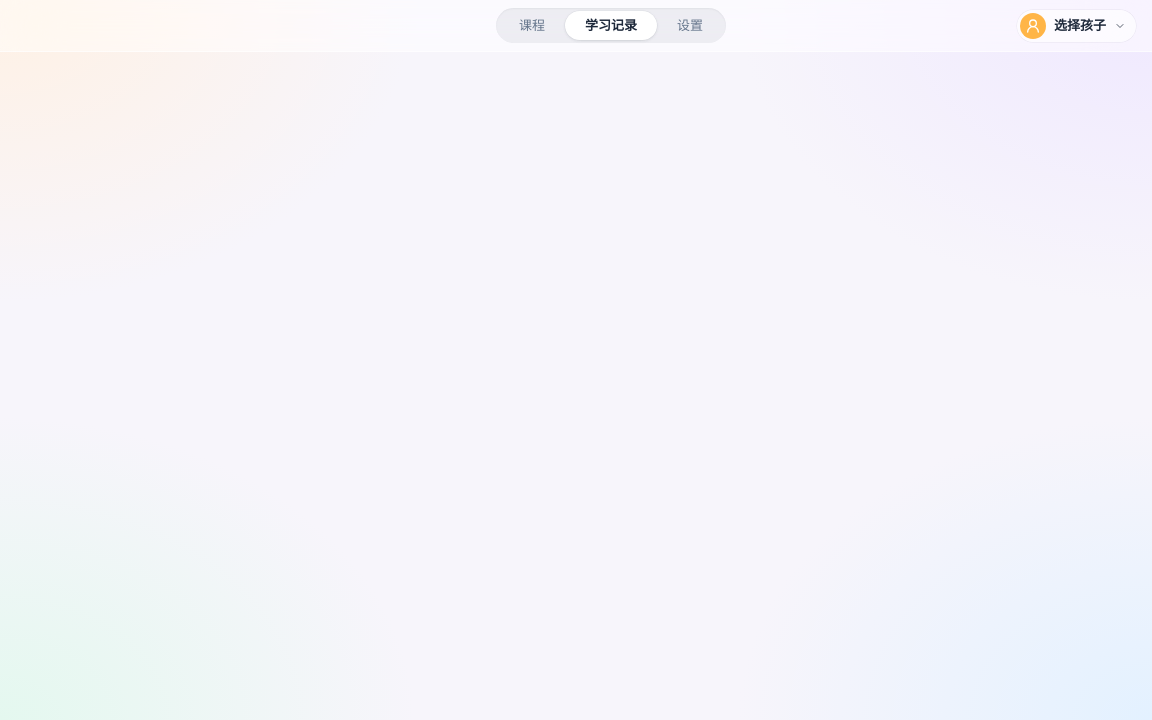
Test: shell › labels the active tab and supports keyboard learner switching and Escape
This screenshot has width=1152, height=720.
Press ArrowDown in the button with aria-label "切换孩子", box 1017,10 -> 1136,42
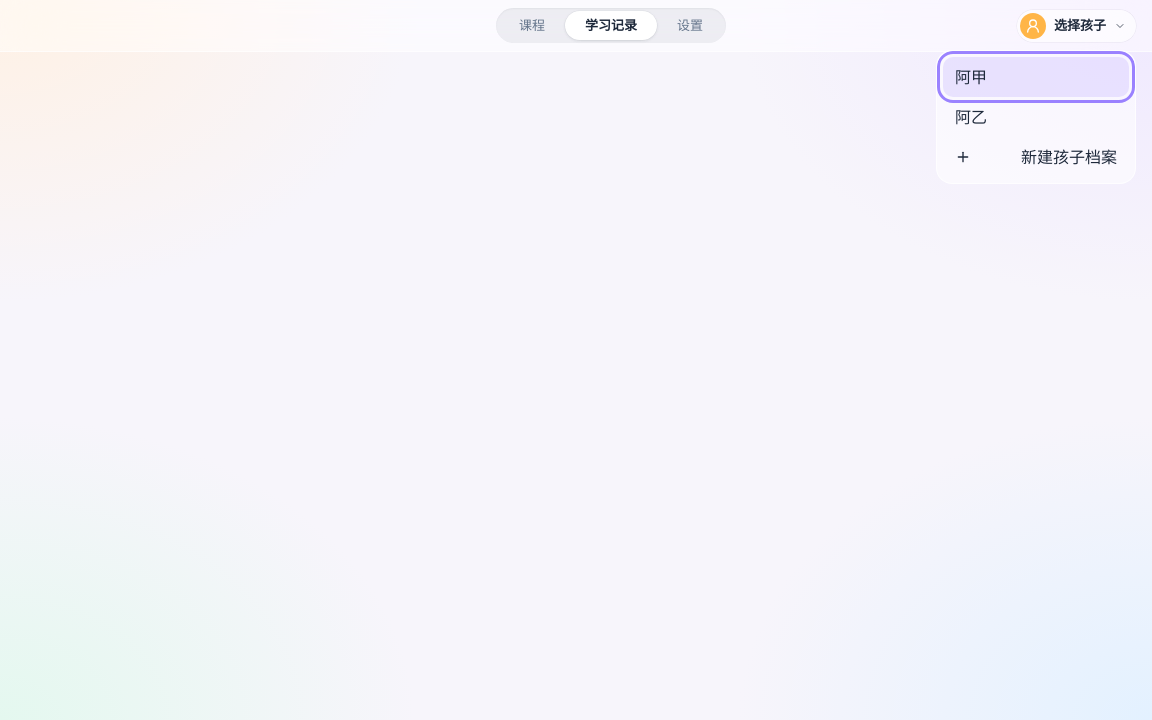
Press ArrowDown in the menu item "阿甲", box 943,56 -> 1129,96
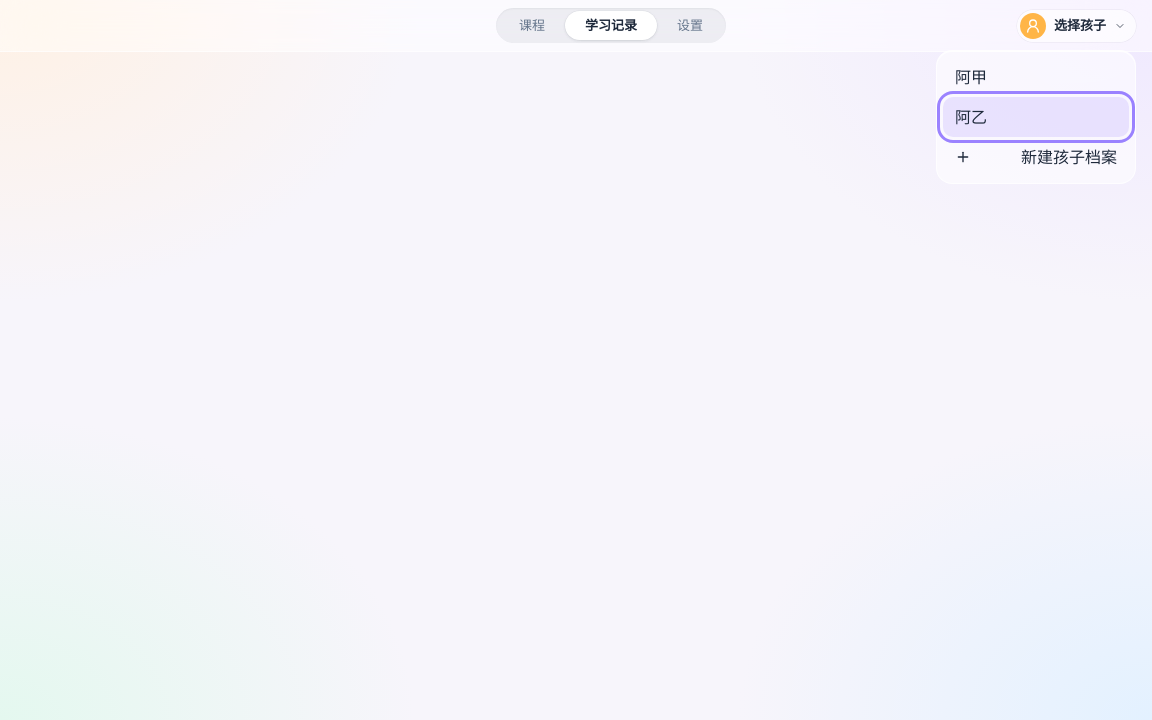
Click the menu item "阿乙" at [1036, 116], box 943,96 -> 1129,136
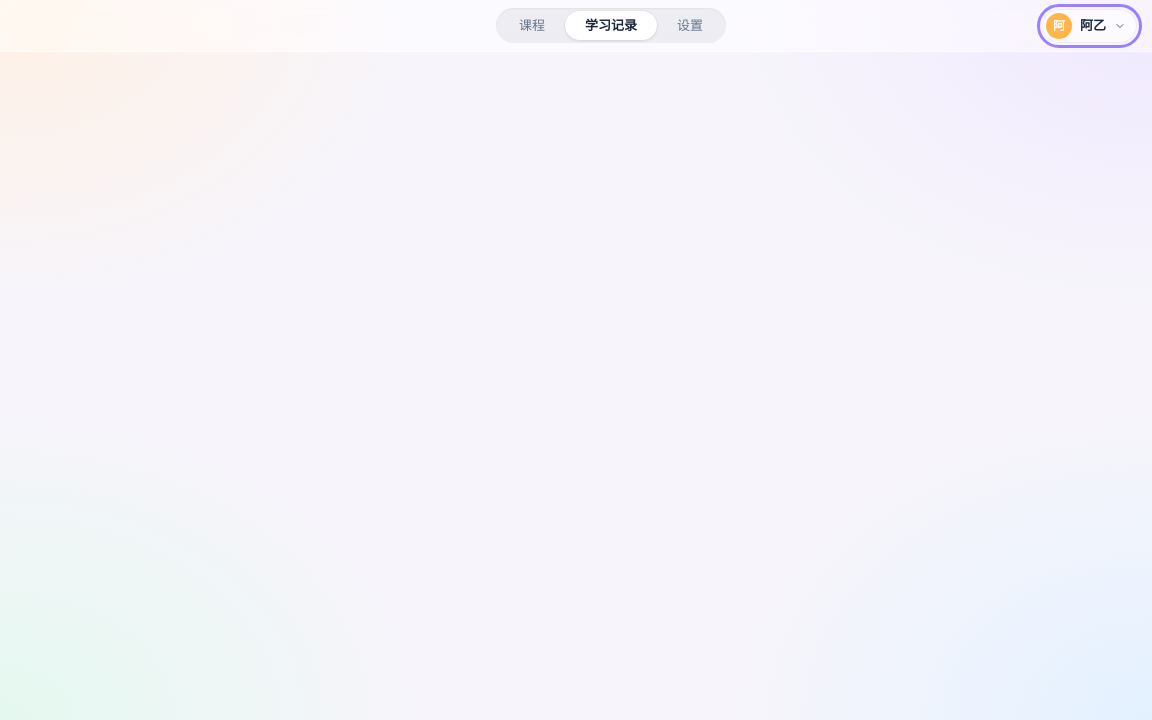
Check: the button with aria-label "切换孩子" shows "阿乙"
Click the button with aria-label "切换孩子" at [1090, 26], box 1043,10 -> 1136,42
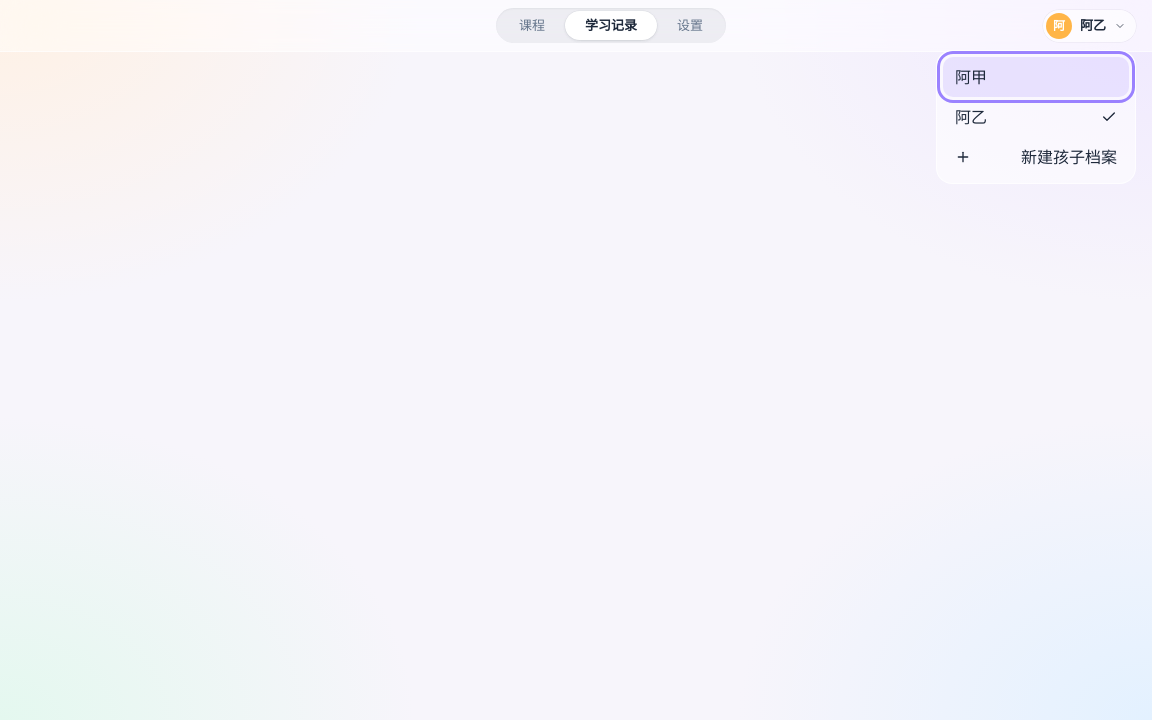
Press Escape in the menu, box 936,50 -> 1136,184
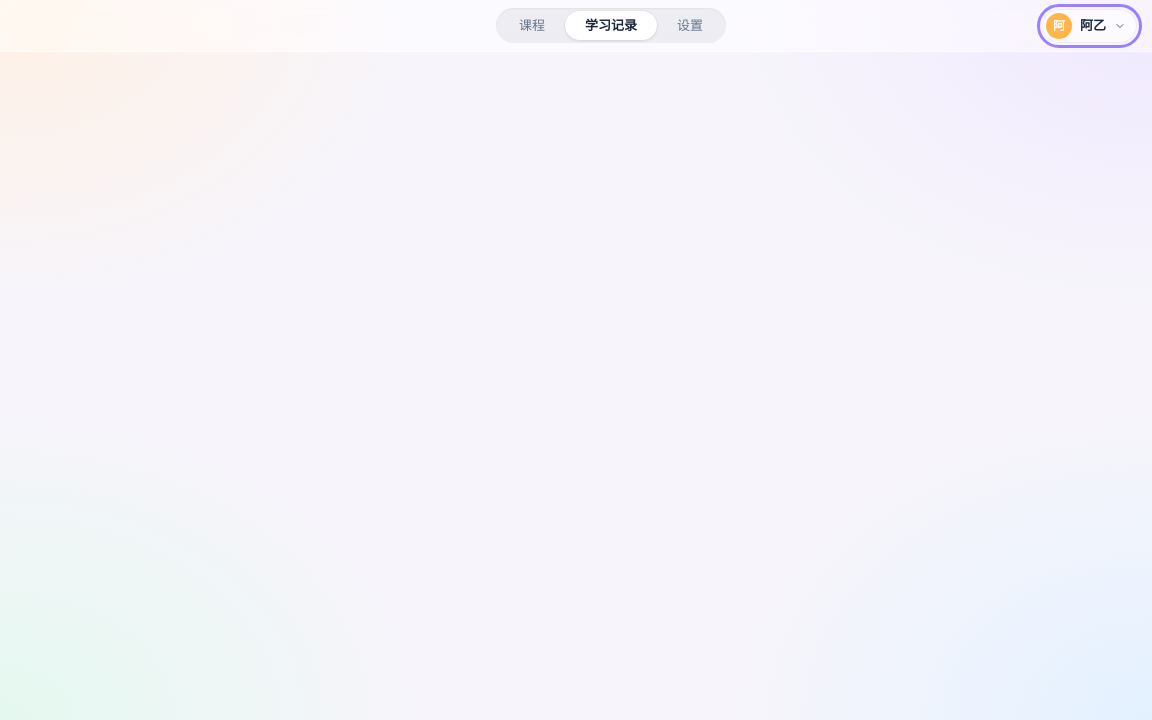
Check: the menu is gone
